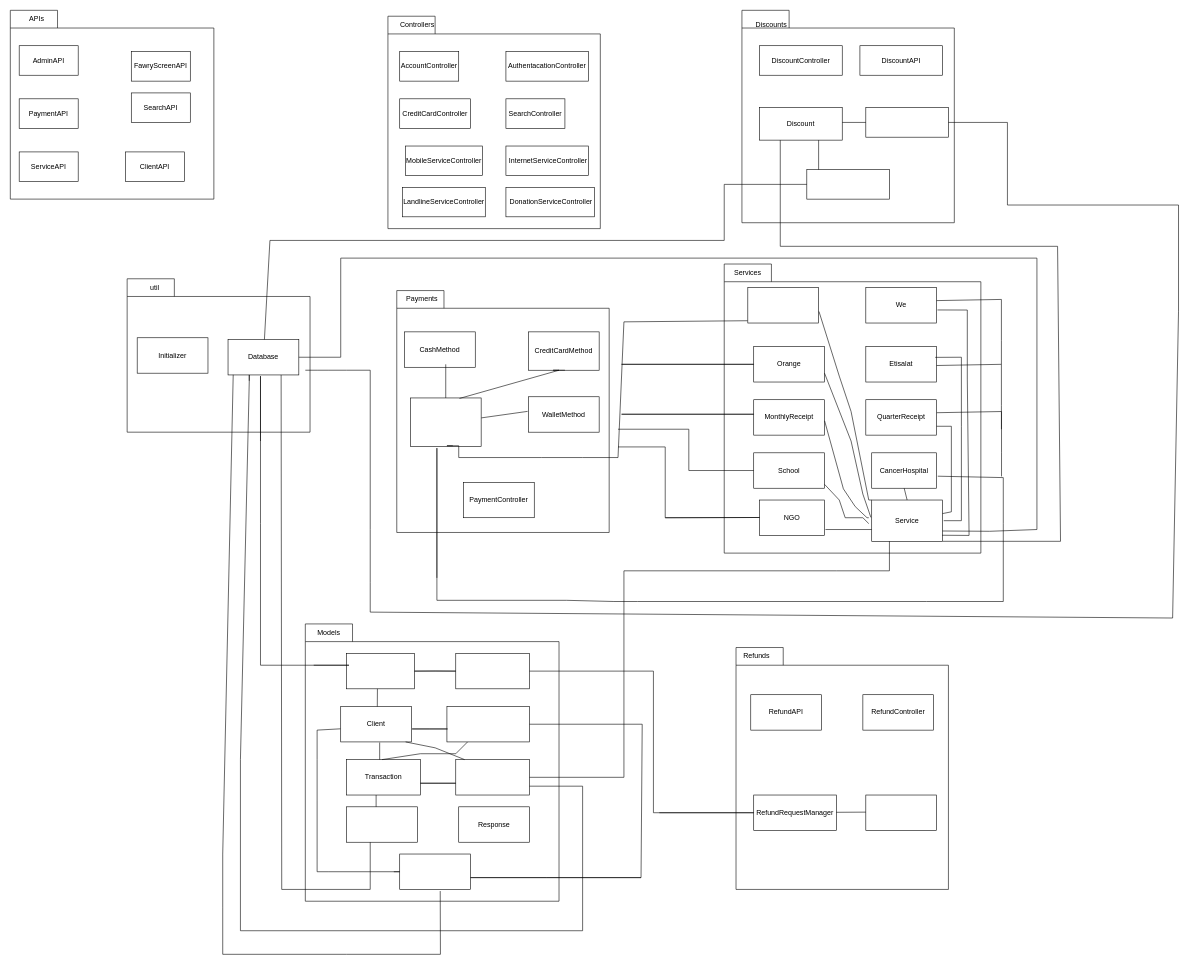
Image size: 1189x965. Some labels were removed from this diagram. The shapes that lost their labels are listed below. From the top down, each one's centre as x and y in pixels, then its label:
At [906,122]: "OverallDiscount".
At [847,184]: "SpecificDiscount".
At [783,305]: "Vodafone".
At [445,421]: "PaymentMethod".
At [380,671]: "Account".
At [492,671]: "Admin".
At [488,724]: "AddToWalletTransaction".
At [492,777]: "PaymentTransaction".
At [381,824]: "RefundTransaction".
At [901,812]: "Subject".
At [435,871]: "CreditCard".
